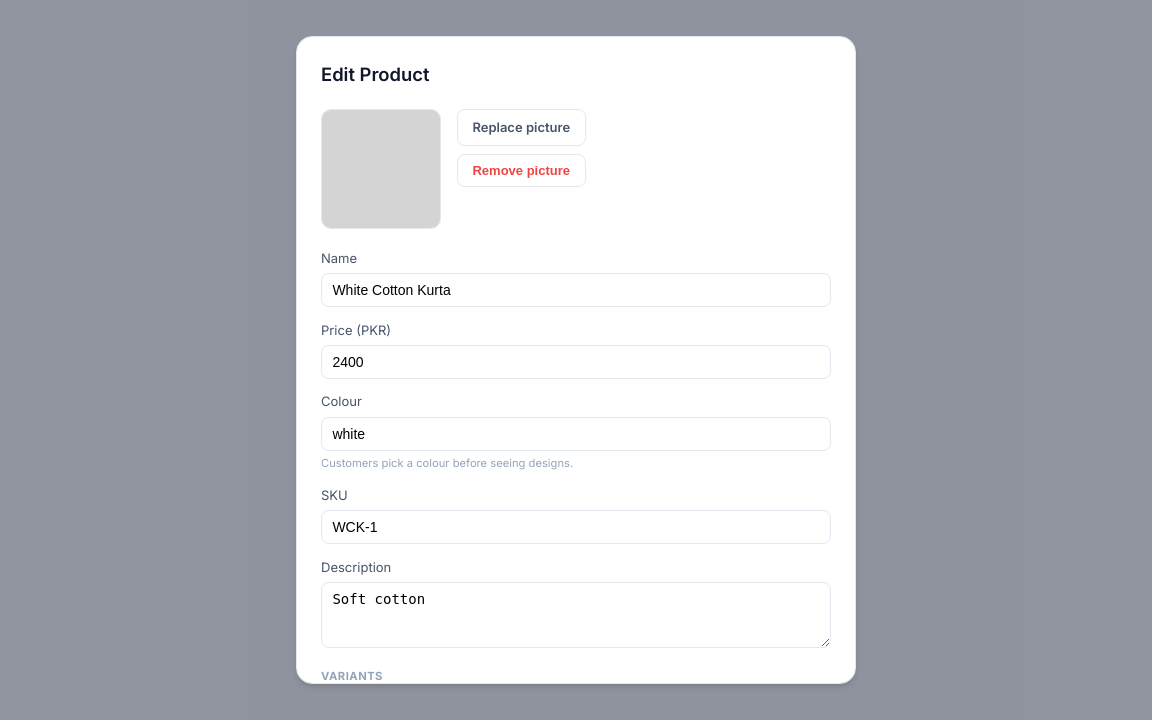
Test: EditProductModal › removes the picture with DELETE and hides the remove control
Click the button "Remove picture".
click(521, 171)  # box [457,154,586,187]
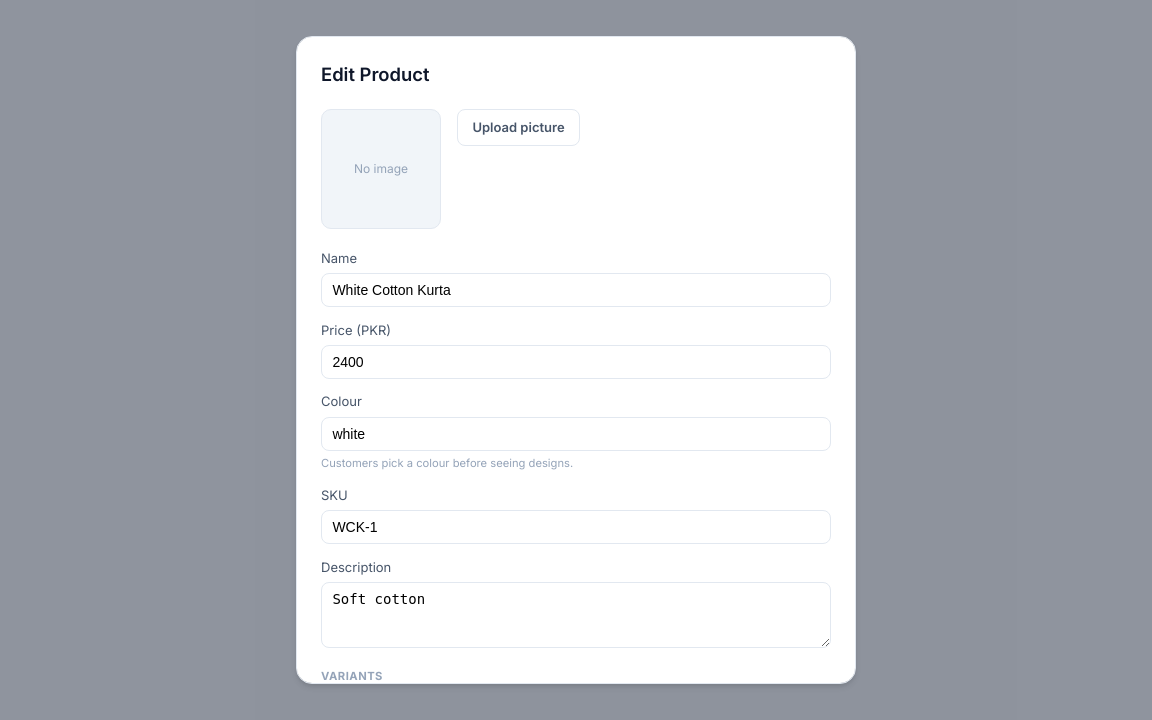
expect the button "Remove picture" is gone: met
